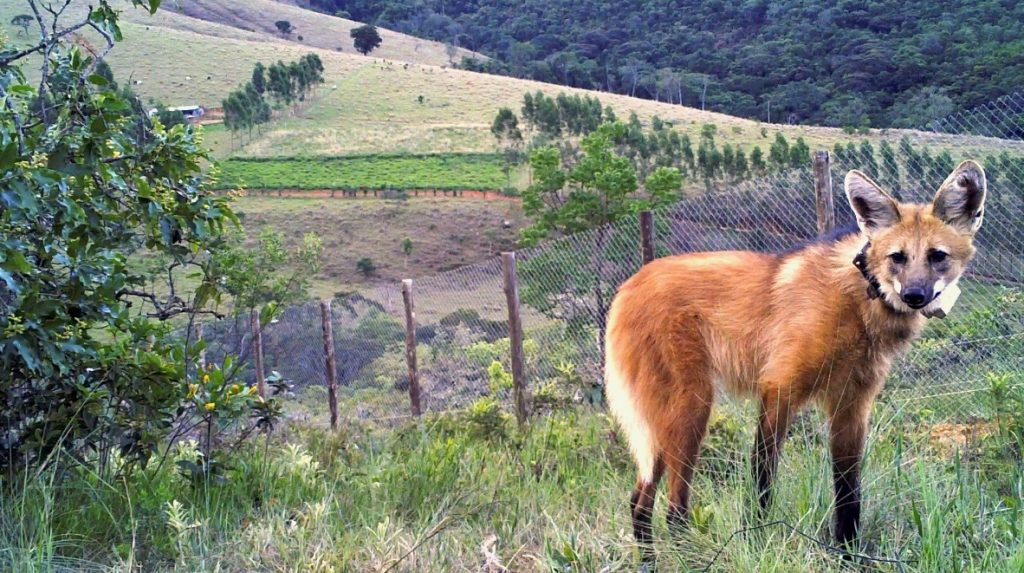LoboGuara: (587, 154, 994, 534)
